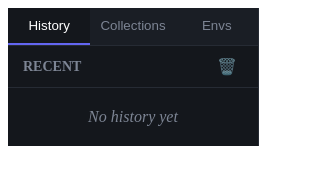
Scenario: Sidebar Rename Coverage › should rename request when prompt is confirmed
// Open Collections tab
Click the button "Collections".
click(133, 26)  # box [90,8,176,45]
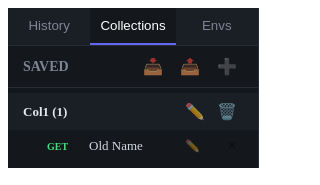
// Find rename button. It's an ActionBtn with title "Rename Request"
Click the button titled "Rename Request" next to "Old Name".
click(192, 146)  # box [179,138,206,154]
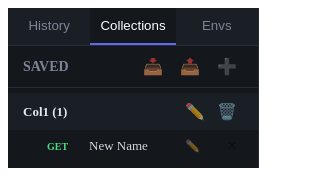
Expected: the text "New Name" is shown, [89,138,148,153]
